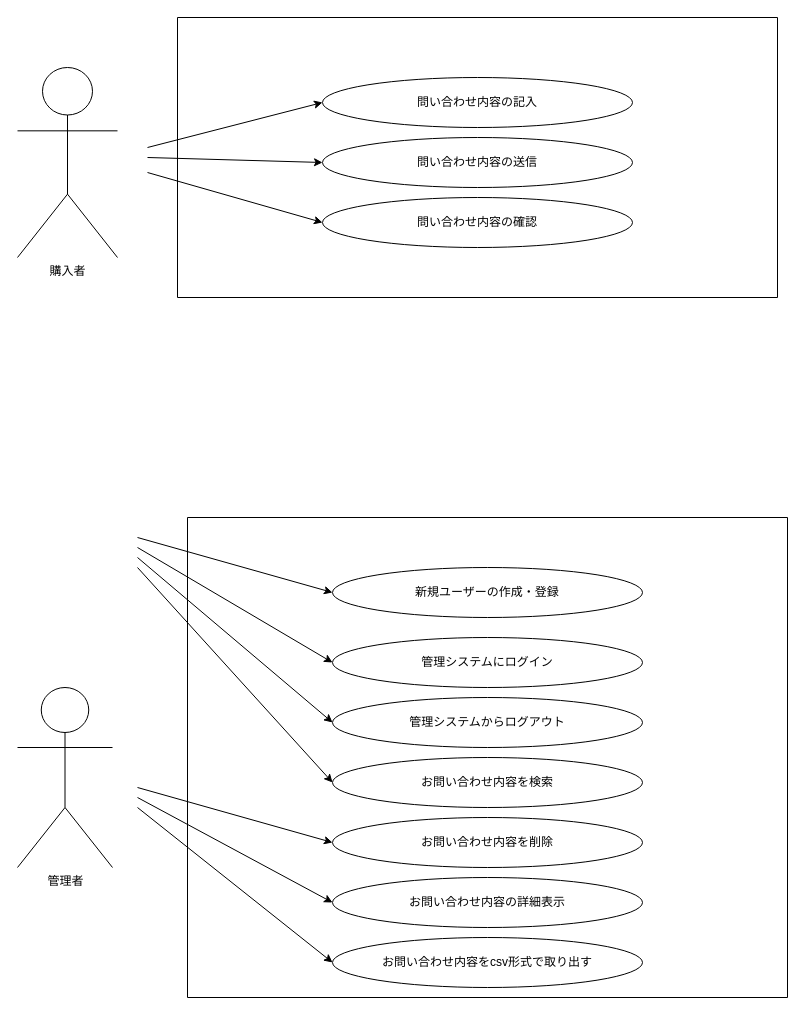
Image size: 805x1015. Some labels were removed from this diagram. Here are the shapes that lost their labels. From the top down, the box of each, then its label:
(176, 16, 778, 298): 問い合わせ送信システム
(186, 516, 788, 998): 問い合わせ管理システム
